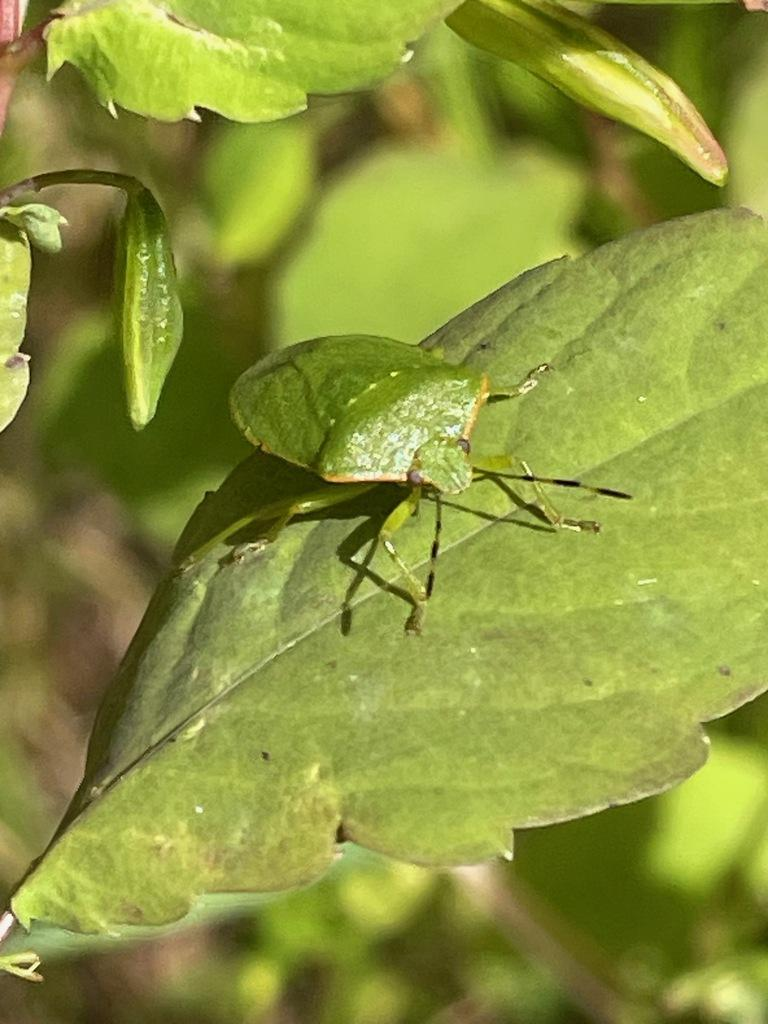stink_bugs: (133, 246, 678, 716)
